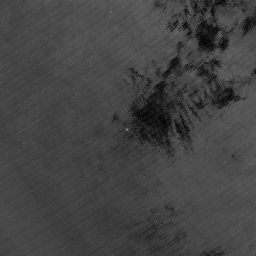Target: (123, 126, 131, 133)
